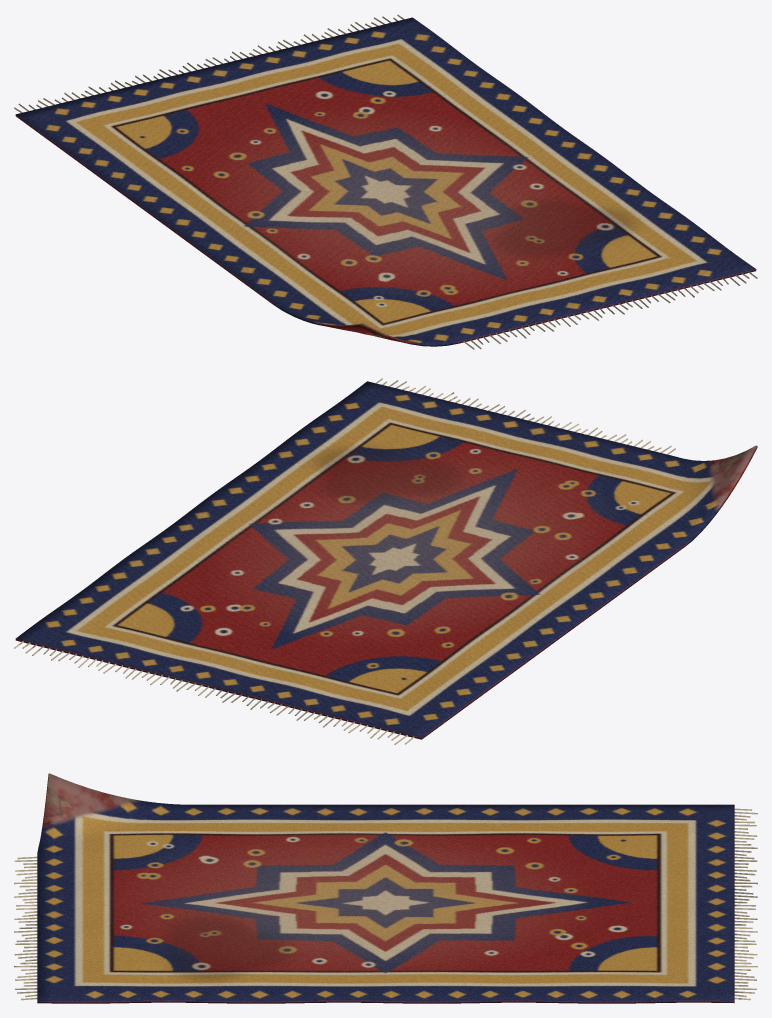
The model's file is PersianRug.fbx.
The picture shows the model from 3 angles, top to bottom: view 1: azimuth 30°, elevation 25°; view 2: azimuth 150°, elevation 25°; view 3: azimuth 270°, elevation 25°; orthographic projection. The views are drawn at different scales.
Parts seen in each view (by area): view 1: PersianRug; view 2: PersianRug; view 3: PersianRug.
Part boxes in pixels (<box>): PersianRug: <box>14,14,757,349</box>; PersianRug: <box>14,378,757,744</box>; PersianRug: <box>14,773,757,1003</box>.
Bounding box in the file's own units: 4.8 × 0.4468 × 7.68.
1 material, 1 textured.
